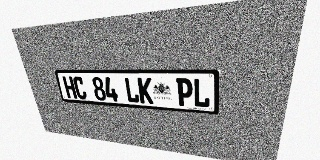4: (103, 77, 118, 102)
8: (91, 77, 107, 101)
C: (72, 76, 88, 99)
H: (62, 76, 77, 99)
K: (137, 77, 153, 104)
L: (193, 78, 211, 108), (124, 77, 140, 103)
P: (176, 78, 193, 107)
